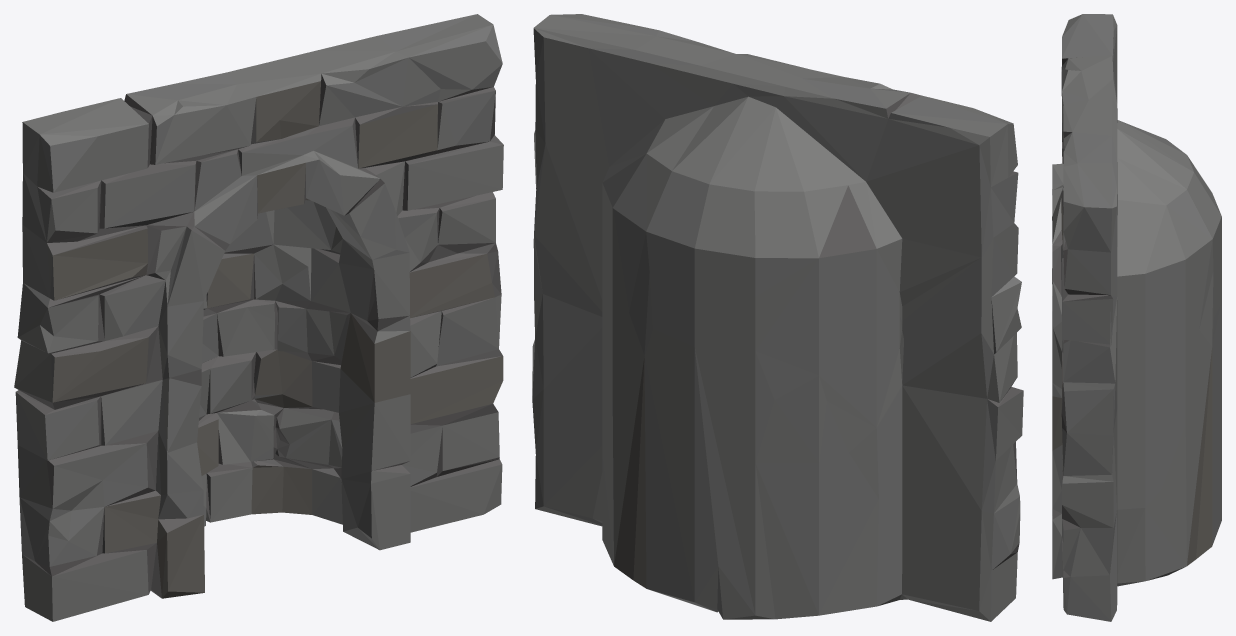
File: SM_Env_Wall_Alcove_Small_01.FBX
3 views of the same model, side by side, from view 1: azimuth 30°, elevation 25°; view 2: azimuth 150°, elevation 25°; view 3: azimuth 270°, elevation 25° (orthographic). The views are drawn at different scales.
Visible parts, largest first — view 1: SM_Env_Wall_Alcove_Small_01; view 2: SM_Env_Wall_Alcove_Small_01; view 3: SM_Env_Wall_Alcove_Small_01.
Boxes of the visible parts, left/top/right/bottom form: SM_Env_Wall_Alcove_Small_01: left=14, top=14, right=503, bottom=621; SM_Env_Wall_Alcove_Small_01: left=532, top=14, right=1023, bottom=621; SM_Env_Wall_Alcove_Small_01: left=1052, top=14, right=1221, bottom=621.
Size of what is drawn, in the model's own units: 516 by 189 by 518.
